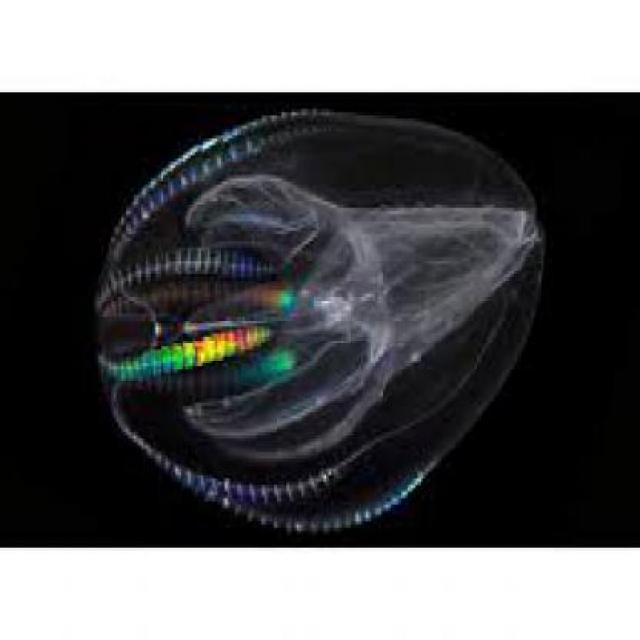Jellyfish: (88, 102, 544, 528)
